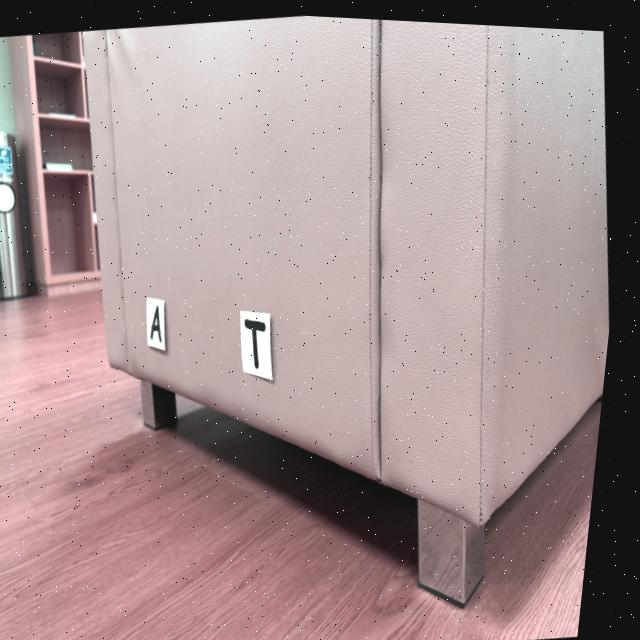A: (157, 304, 168, 340)
T: (250, 315, 272, 365)
